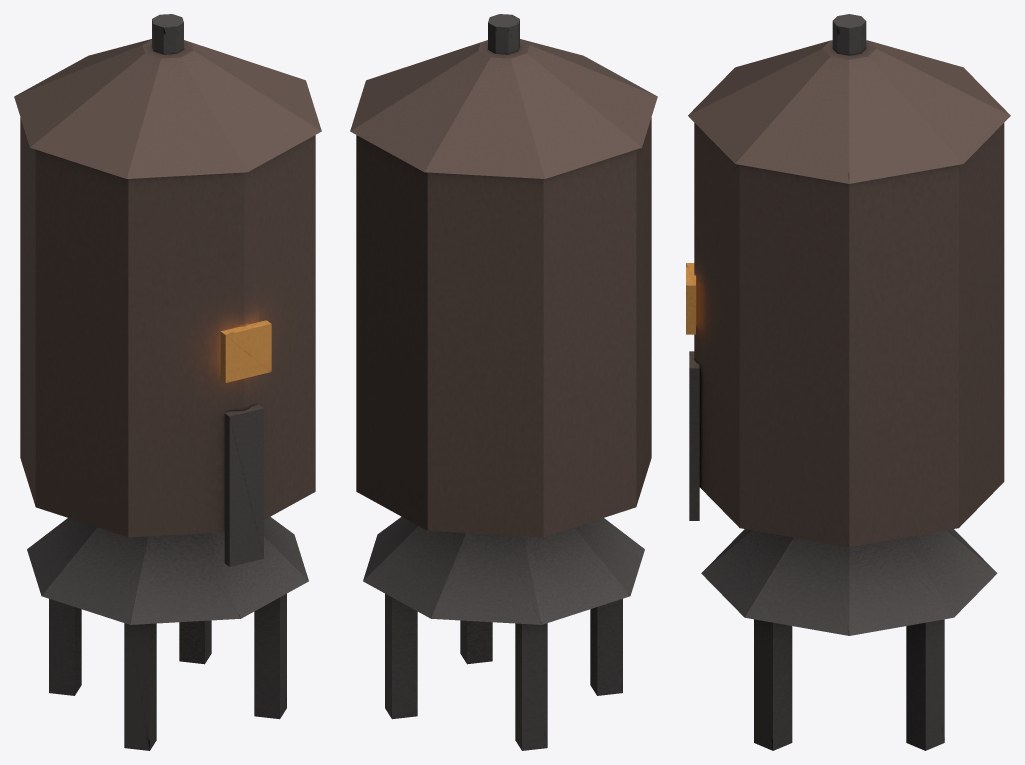
The model's file is ore_tank_script.glb.
The picture shows the model from 3 angles, left to right: view 1: azimuth 30°, elevation 25°; view 2: azimuth 150°, elevation 25°; view 3: azimuth 270°, elevation 25°; orthographic projection.
Visible parts, largest first — view 1: Cone; view 2: Cone; view 3: Cone.
Boxes of the visible parts, left/top/right/bottom form: Cone: left=14, top=14, right=321, bottom=750; Cone: left=350, top=14, right=657, bottom=750; Cone: left=686, top=14, right=1010, bottom=750.
Size of the model in its own units: 9.6 by 22.6 by 9.65.
Materials: 1 (1 with a texture image).
